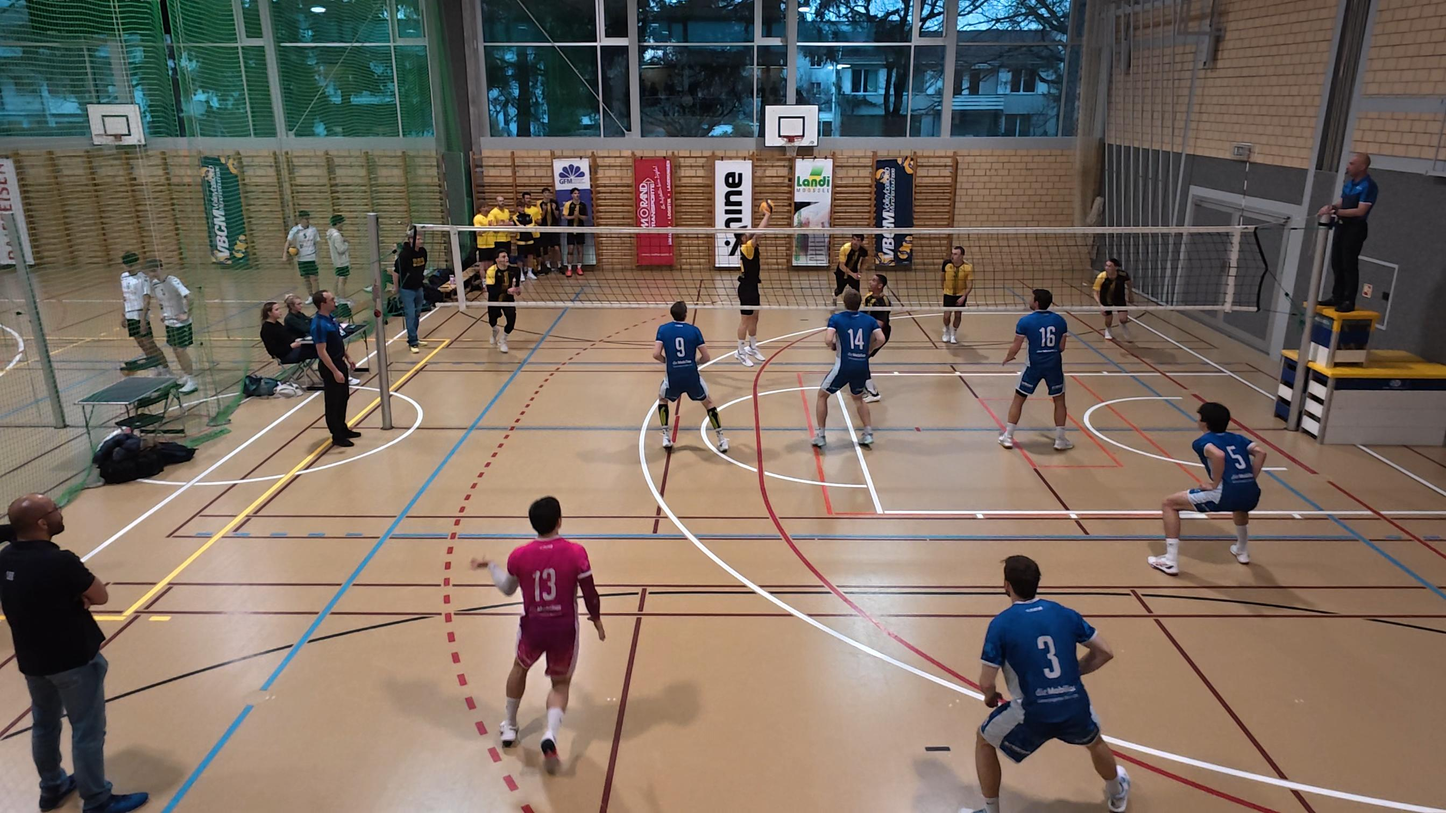Player: (961, 555, 1129, 813), (495, 497, 606, 774), (1148, 402, 1265, 574), (998, 288, 1073, 451), (652, 301, 729, 450), (812, 293, 881, 449), (860, 270, 897, 400), (484, 248, 520, 354), (1093, 258, 1136, 344), (938, 243, 973, 344), (830, 234, 864, 310)
Set: (726, 203, 774, 368)
ball: (757, 198, 774, 216)
